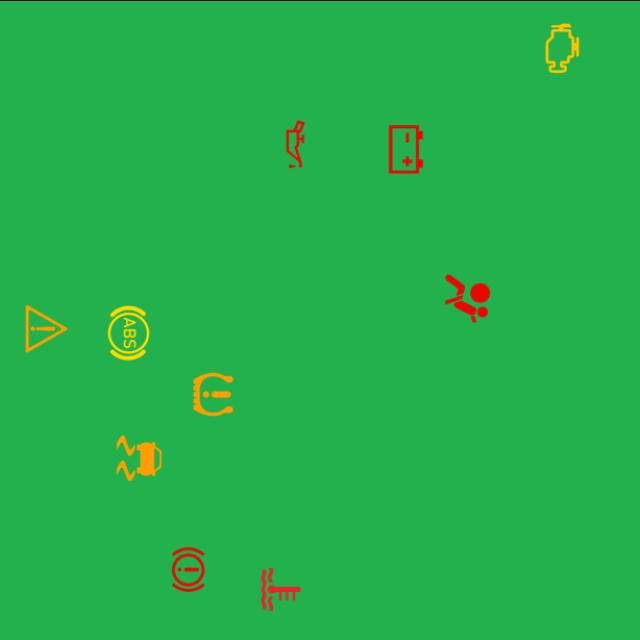Anti Lock Braking System: (98, 302, 158, 362)
Braking System Issue: (158, 538, 218, 598)
Charging System Issue: (376, 118, 436, 178)
Check Engine: (532, 18, 592, 78)
Electronic Stability Problem -ESP-: (109, 427, 169, 487)
Engine Overheating Warning Light: (251, 558, 311, 618)
Low Engine Oil Warning Light: (266, 114, 326, 174)
Low Tire Pressure Warning Light: (183, 364, 243, 424)
Master warning light: (17, 298, 76, 358)
SRS-Airbag: (438, 268, 498, 328)
